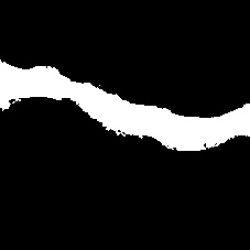crack: (2, 61, 248, 151)
